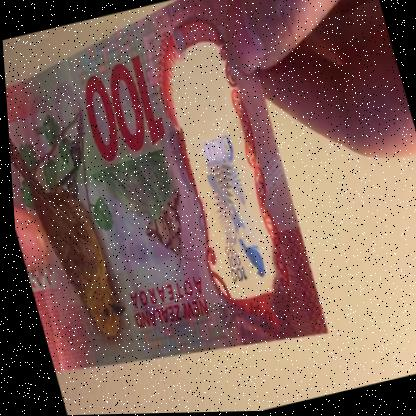100B: (175, 93, 273, 297)
